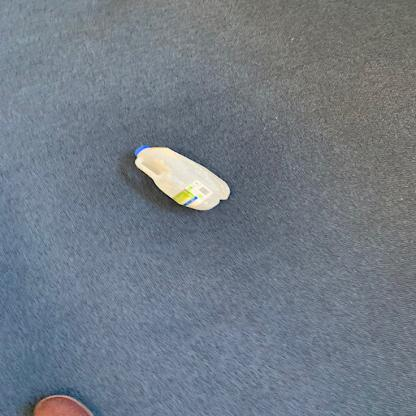trash: (129, 143, 240, 210)
